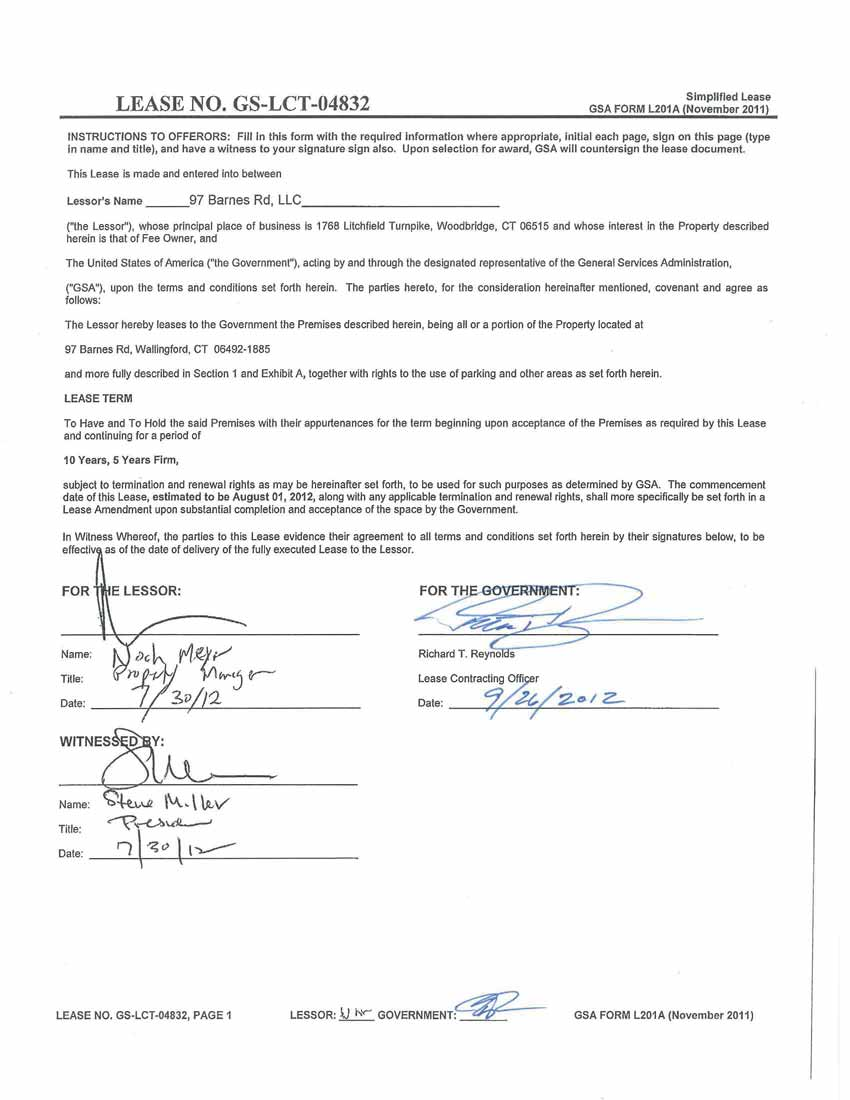handwritten: (407, 566, 649, 650), (61, 549, 268, 646), (85, 714, 287, 796), (96, 635, 284, 712), (471, 670, 634, 727), (95, 829, 251, 870), (93, 785, 237, 817), (96, 802, 227, 834)
